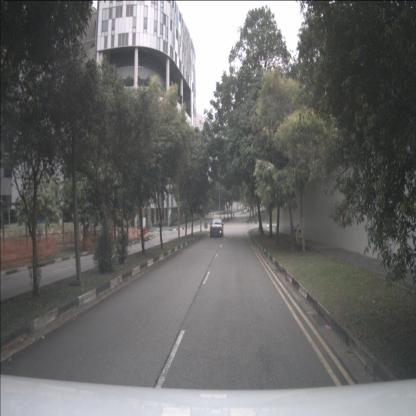human-pedestrian-adult: (157, 219, 159, 228), (150, 218, 151, 228)
vehicle-bicycle: (292, 224, 304, 254)
vehicle-car: (210, 219, 224, 237)
